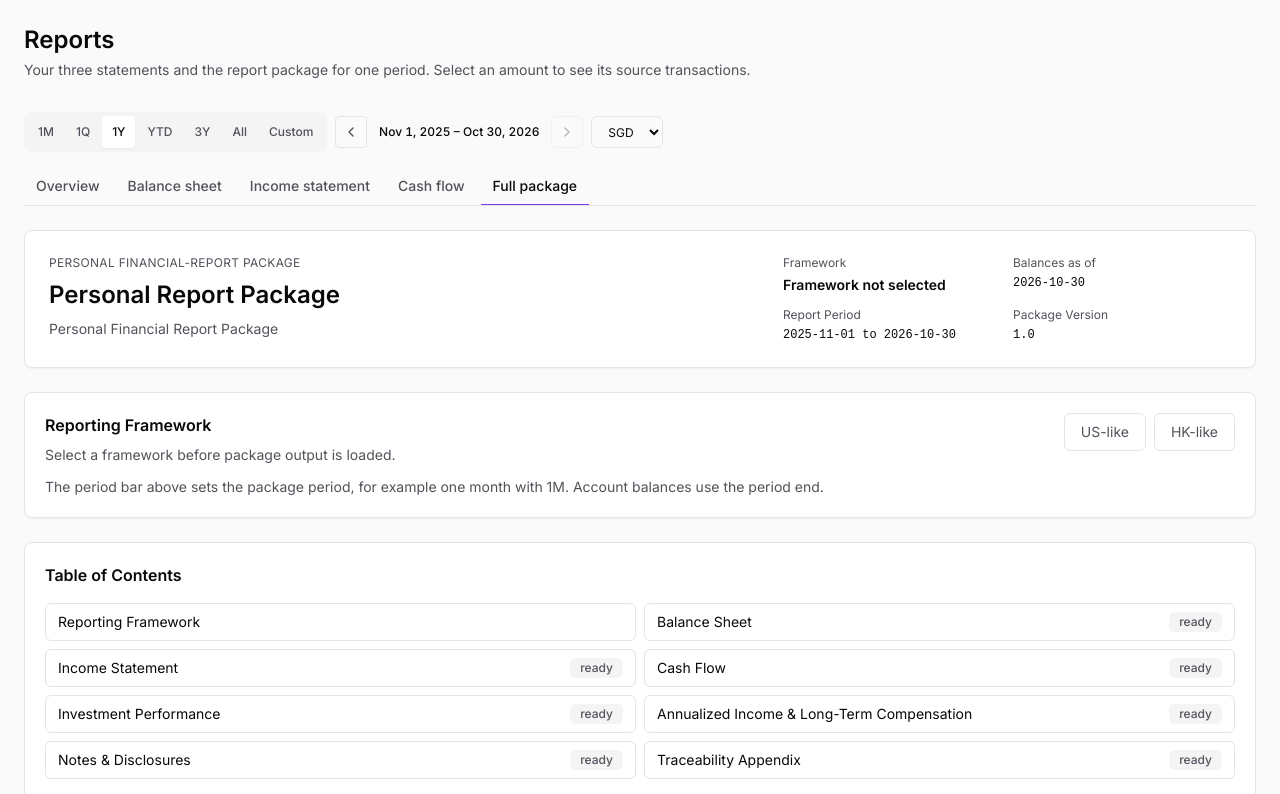
PersonalReportPackagePage › #2645 labels the package net worth from the scope that the document context records
Click the button "US-like" at (1105, 432), box [1064,413,1146,451]
(page scrolled)
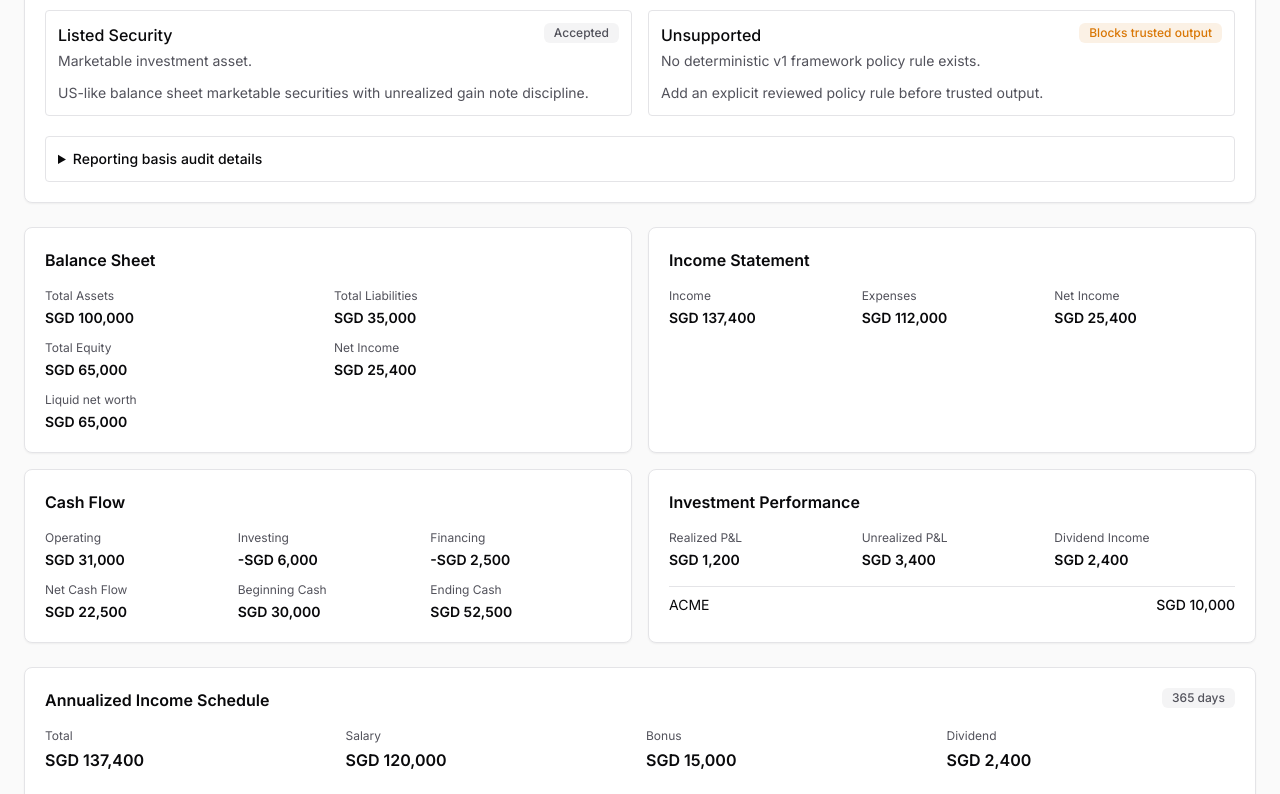
Expected: the text "Liquid net worth" is shown, [45,392,137,407]
